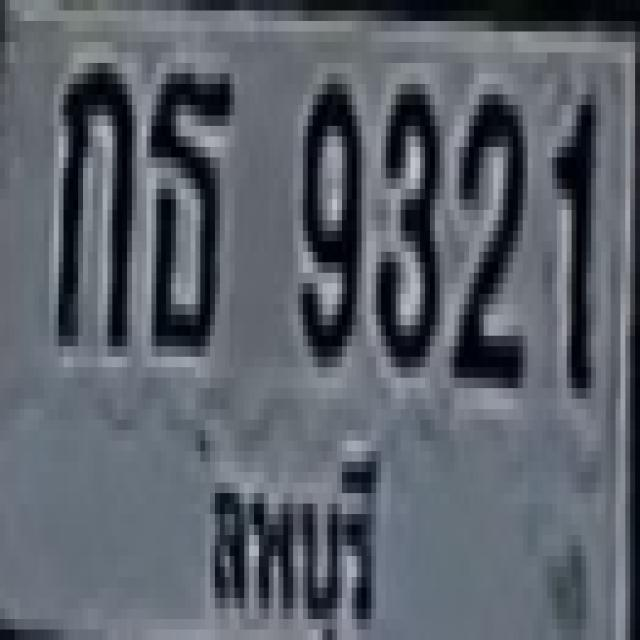1: (552, 89, 596, 397)
2: (450, 90, 527, 386)
3: (375, 83, 439, 366)
9: (299, 79, 359, 364)
A01: (55, 62, 134, 345)
A24: (148, 69, 232, 353)
LRI: (192, 422, 379, 640)
